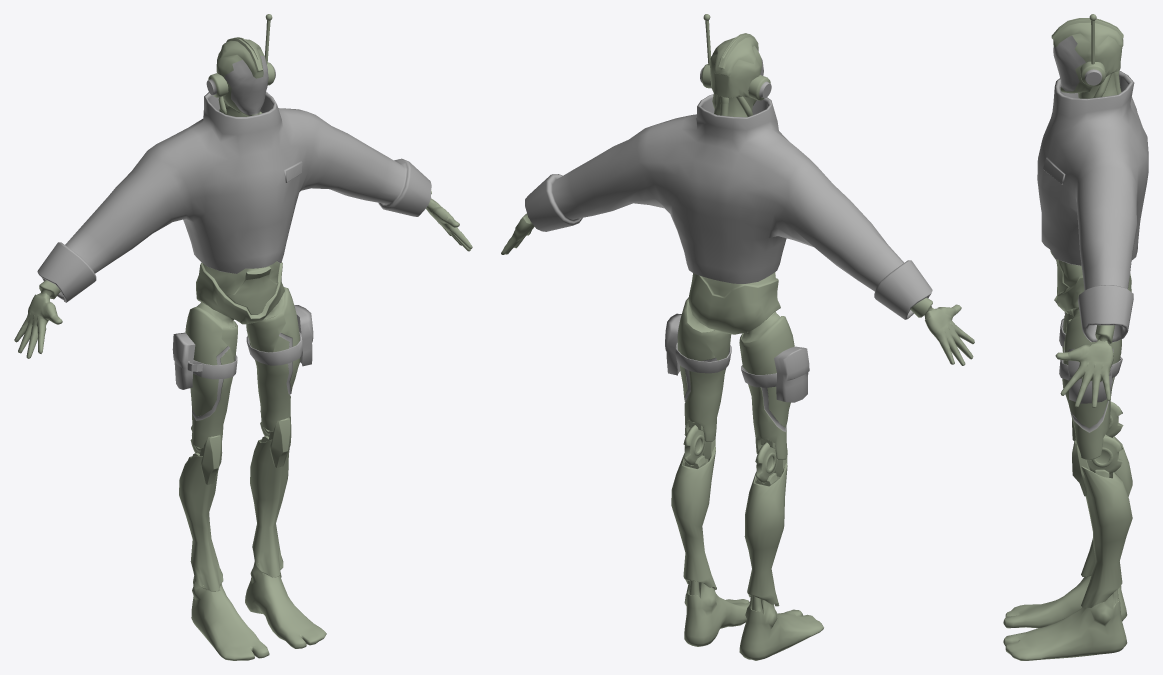
Rendered from RoboticaBModel.fbx.
3 renders of one model, left to right at view 1: azimuth 30°, elevation 25°; view 2: azimuth 150°, elevation 25°; view 3: azimuth 270°, elevation 25°, orthographic. The views are drawn at different scales.
Visible parts, largest first — view 1: RoboticaB; view 2: RoboticaB; view 3: RoboticaB.
Boxes of the visible parts, x1=… form: RoboticaB: x1=14, y1=14, x2=472, y2=660; RoboticaB: x1=501, y1=14, x2=974, y2=660; RoboticaB: x1=1003, y1=14, x2=1148, y2=660.
Bounding box in the file's own units: 149 × 193 × 39.99.
